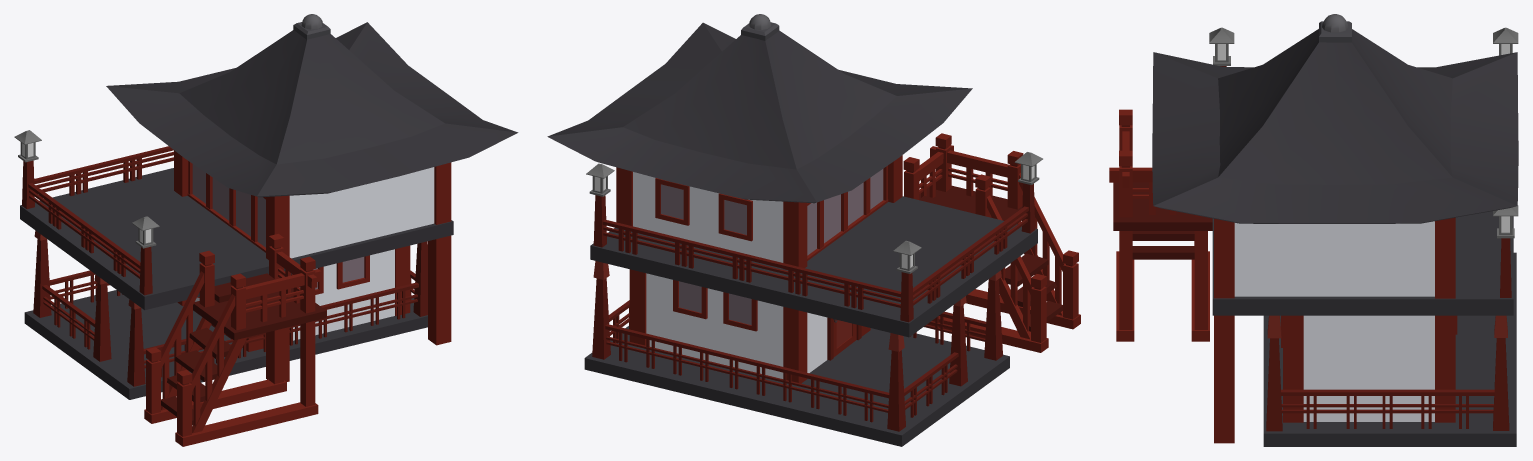
The model's file is houme017.fbx.
The picture shows the model from 3 angles, left to right: view 1: azimuth 30°, elevation 25°; view 2: azimuth 150°, elevation 25°; view 3: azimuth 270°, elevation 25°; orthographic projection. The views are drawn at different scales.
Visible parts, largest first — view 1: houme_17, stairs_17_1, foundation_17_1, fence_17_1, fence_17_2; view 2: houme_17, foundation_17_1, stairs_17_1, fence_17_1, fence_17_2; view 3: houme_17, foundation_17_1, stairs_17_1, fence_17_1, fence_17_2.
Boxes of the visible parts, x1=… form: houme_17: x1=20, y1=14, x2=518, y2=381; stairs_17_1: x1=144, y1=233, x2=326, y2=446; foundation_17_1: x1=24, y1=290, x2=427, y2=399; fence_17_1: x1=33, y1=230, x2=427, y2=386; fence_17_2: x1=14, y1=130, x2=173, y2=295; houme_17: x1=547, y1=14, x2=1037, y2=383; foundation_17_1: x1=584, y1=326, x2=1009, y2=446; stairs_17_1: x1=903, y1=133, x2=1080, y2=352; fence_17_1: x1=592, y1=261, x2=1002, y2=431; fence_17_2: x1=586, y1=152, x2=1042, y2=322; houme_17: x1=1152, y1=14, x2=1518, y2=443; foundation_17_1: x1=1263, y1=252, x2=1516, y2=446; stairs_17_1: x1=1109, y1=109, x2=1212, y2=341; fence_17_1: x1=1266, y1=315, x2=1509, y2=431; fence_17_2: x1=1209, y1=27, x2=1518, y2=297.
Bounding box in the file's own units: 1158 × 977 × 963.
